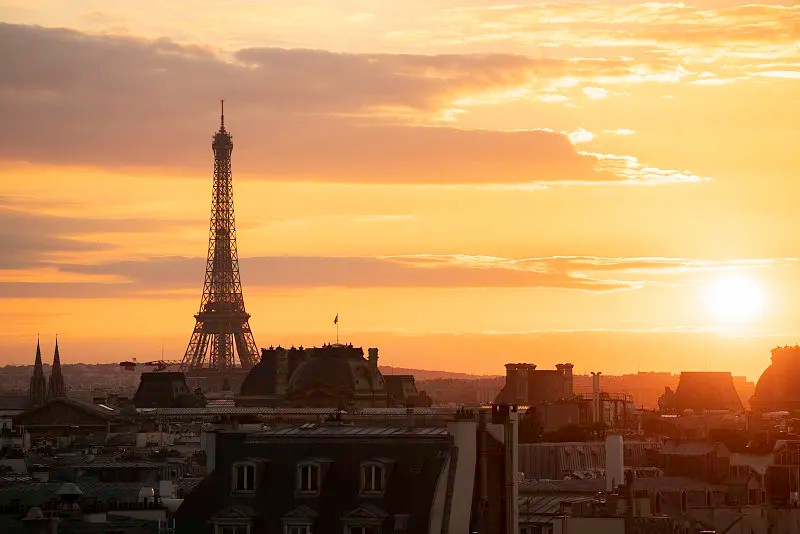Eiffel: (178, 99, 263, 373)
